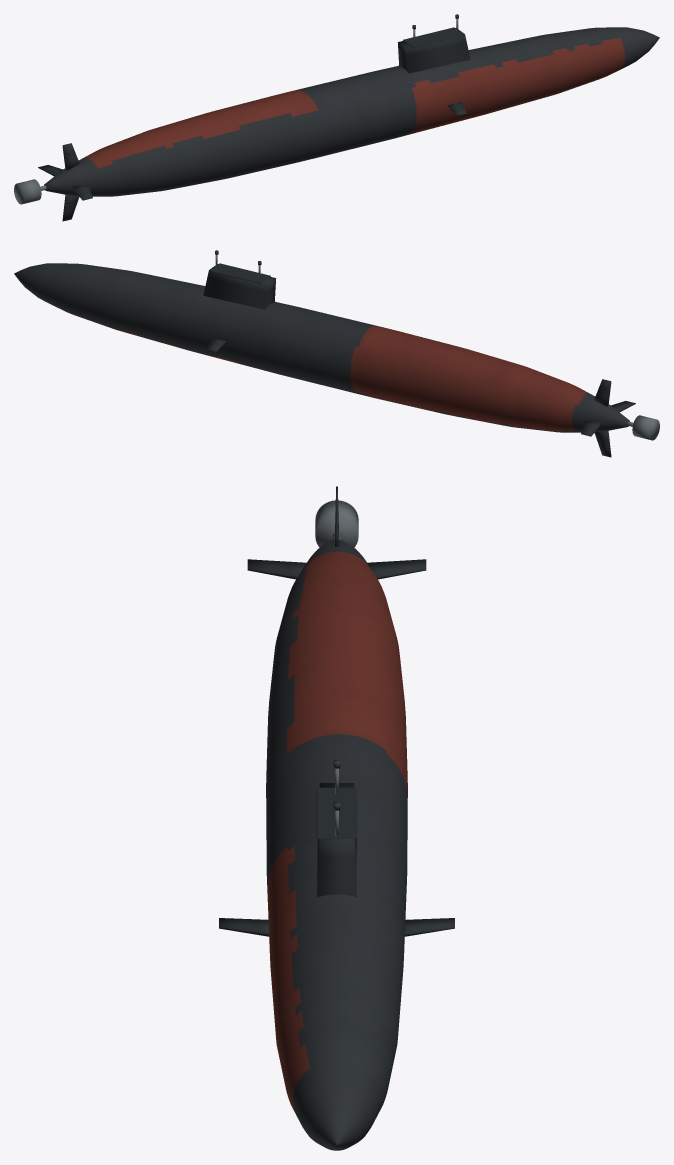
File: CN_SSN_Type093B.glb
3 views of the same model, one above another, from view 1: azimuth 30°, elevation 25°; view 2: azimuth 150°, elevation 25°; view 3: azimuth 270°, elevation 25° (orthographic). The views are drawn at different scales.
Visible parts, largest first — view 1: CN_SSN_Type093B_LOD0; view 2: CN_SSN_Type093B_LOD0; view 3: CN_SSN_Type093B_LOD0.
Boxes of the visible parts, x1=… form: CN_SSN_Type093B_LOD0: x1=14, y1=14, x2=659, y2=221; CN_SSN_Type093B_LOD0: x1=14, y1=250, x2=659, y2=457; CN_SSN_Type093B_LOD0: x1=219, y1=486, x2=454, y2=1150.
Size of the model in its own units: 115 by 18.81 by 18.32.
Materials: 6 (1 with a texture image).
